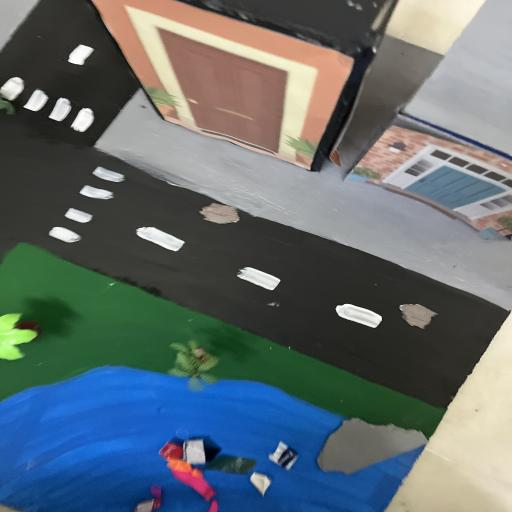encroachment: (315, 414, 429, 476)
porthole: (394, 301, 438, 330), (198, 202, 246, 226)
trash: (132, 431, 297, 512)
